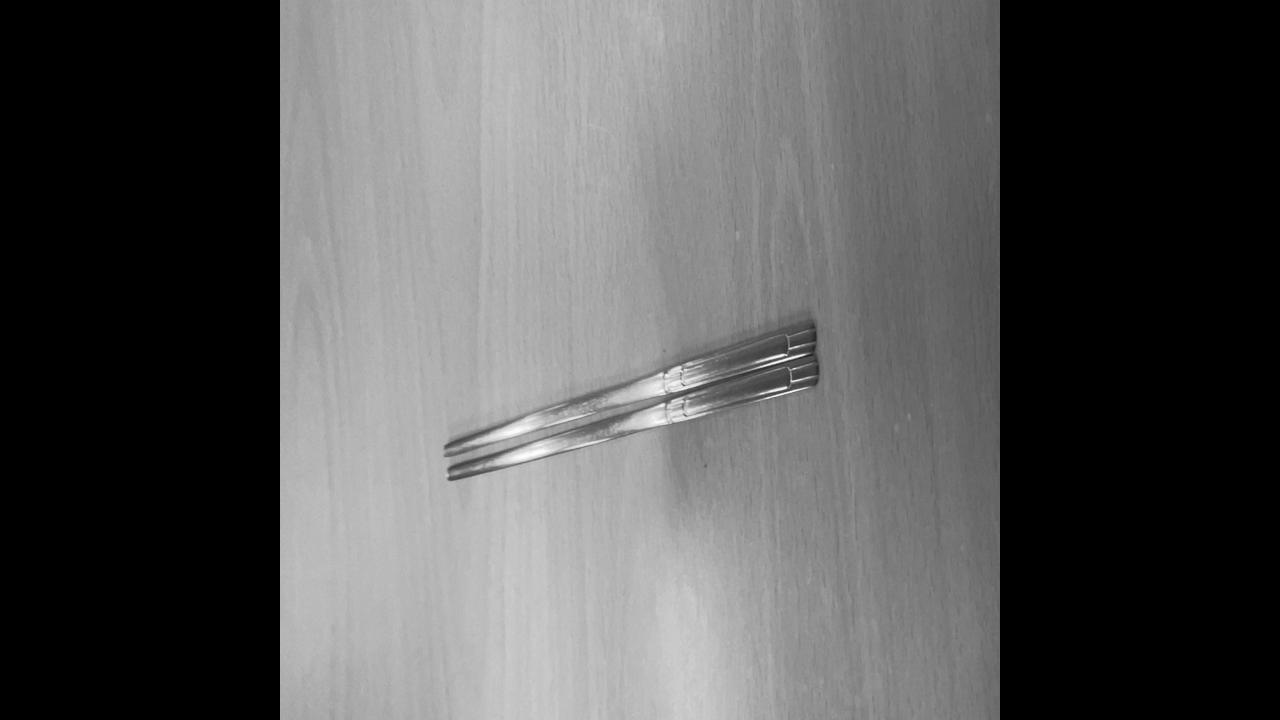chopstick: (442, 315, 816, 493)
